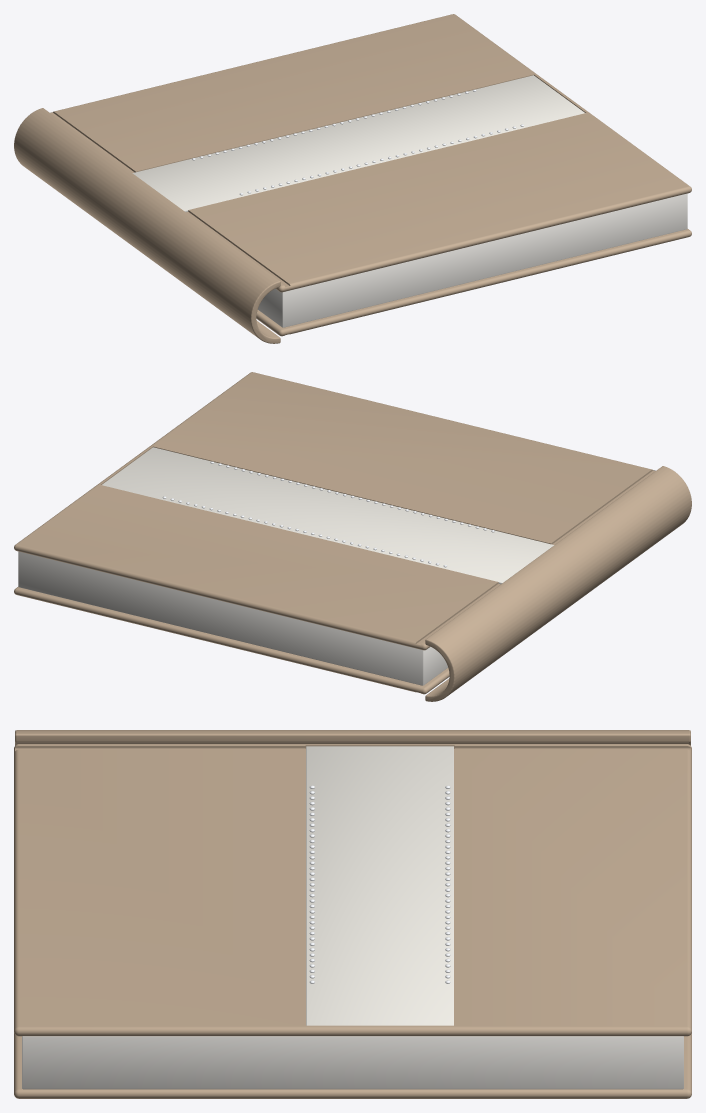
The model's file is fascia-ornament--square.glb.
The picture shows the model from 3 angles, top to bottom: view 1: azimuth 30°, elevation 25°; view 2: azimuth 150°, elevation 25°; view 3: azimuth 270°, elevation 25°; orthographic projection. The views are drawn at different scales.
Parts seen in each view (by area): view 1: CoverFront, Band, Spine, Pages, CoverBack; view 2: CoverFront, Band, Spine, Pages, CoverBack; view 3: CoverFront, Band, Pages, Spine, CoverBack, Crystal, Crystal.001.
Boxes of the visible parts, x1,y1,x2,y2 form: CoverFront: (50, 14, 691, 292); Band: (132, 75, 584, 212); Spine: (14, 108, 280, 343); Pages: (258, 193, 687, 327); CoverBack: (256, 229, 691, 336); CoverFront: (14, 372, 655, 650); Band: (102, 447, 554, 584); Spine: (425, 466, 691, 701); Pages: (18, 551, 447, 685); CoverBack: (14, 587, 449, 694); CoverFront: (14, 744, 691, 1036); Band: (306, 746, 453, 1025); Pages: (22, 1036, 683, 1089); Spine: (15, 730, 690, 745); CoverBack: (14, 1033, 691, 1098); Crystal: (445, 785, 450, 983); Crystal.001: (309, 785, 314, 983).
Size of the model in its own units: 0.3208 by 0.043 by 0.3.
